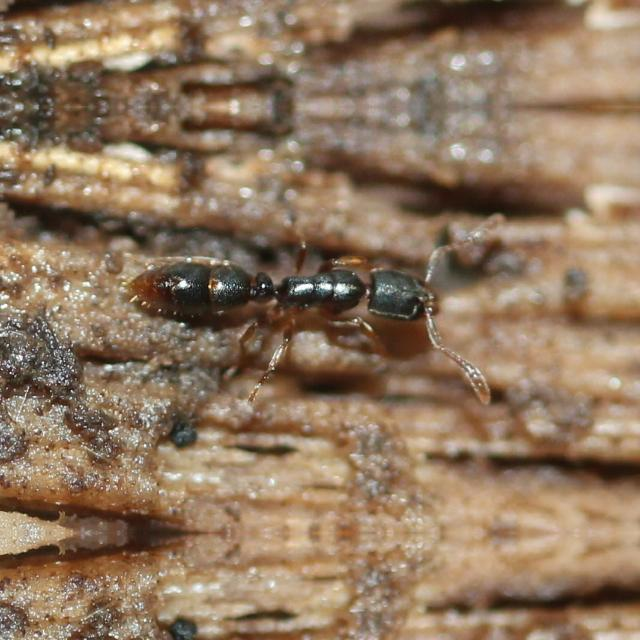Ponera: (103, 191, 525, 407)
